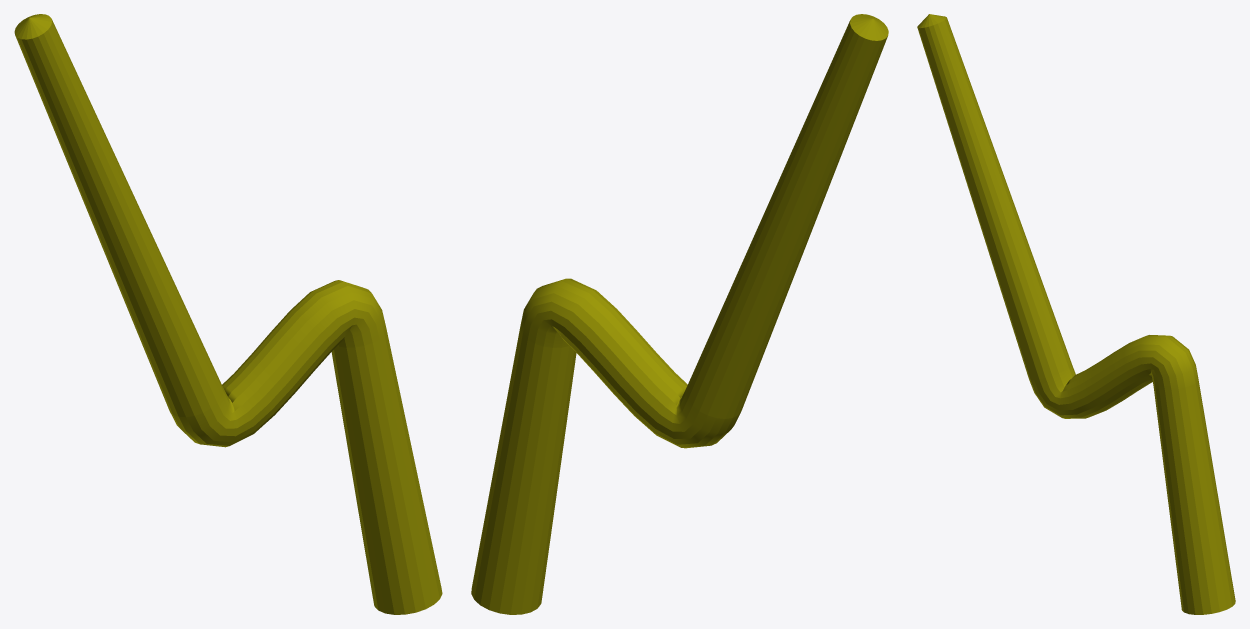
File: thunder_line.fbx
3 renders of one model, left to right at view 1: azimuth 30°, elevation 25°; view 2: azimuth 150°, elevation 25°; view 3: azimuth 330°, elevation 25°, orthographic. The views are drawn at different scales.
Visible parts, largest first — view 1: pasted__pCylinder5; view 2: pasted__pCylinder5; view 3: pasted__pCylinder5.
Boxes of the visible parts, x1,y1,x2,y2 form: pasted__pCylinder5: [14, 14, 442, 614]; pasted__pCylinder5: [471, 14, 888, 614]; pasted__pCylinder5: [917, 14, 1235, 614].
Bounding box in the file's own units: 67.77 × 105 × 10.66.
